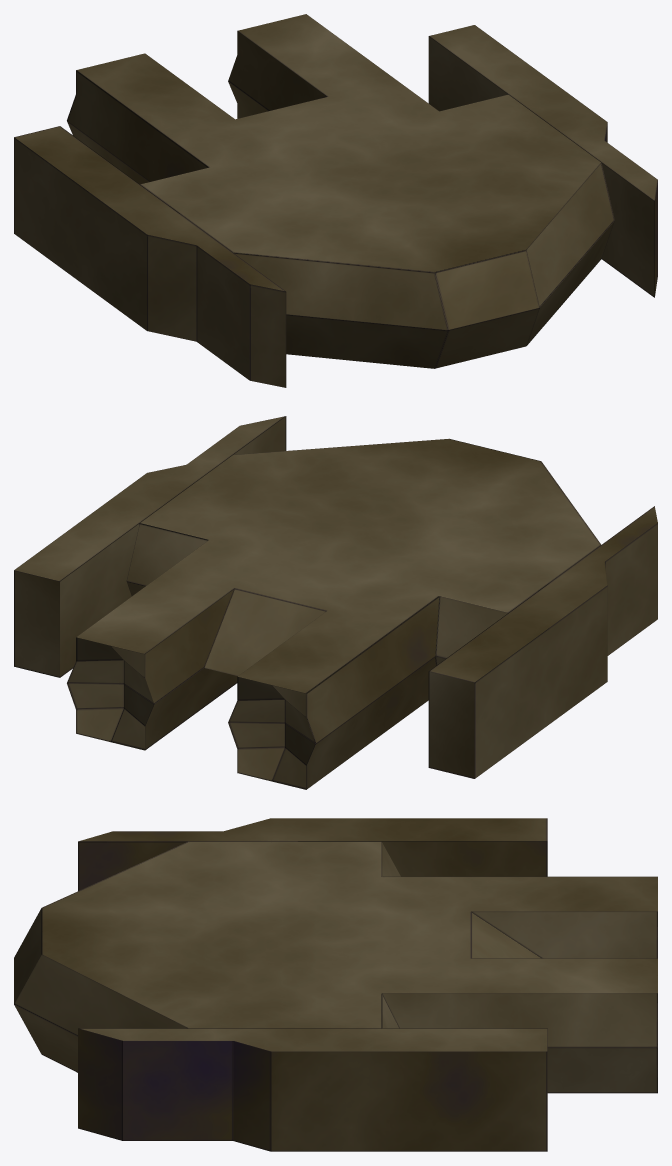
The model's file is starShip3.fbx.
3 renders of one model, top to bottom at view 1: azimuth 30°, elevation 25°; view 2: azimuth 150°, elevation 25°; view 3: azimuth 270°, elevation 25°, orthographic. The views are drawn at different scales.
Visible parts, largest first — view 1: Cube; view 2: Cube; view 3: Cube.
Part boxes in pixels (<box>): Cube: <box>14,14,657,387</box>; Cube: <box>14,416,657,789</box>; Cube: <box>14,818,657,1151</box>.
Bounding box in the file's own units: 1000 × 200 × 1166.
1 material, 1 textured.
